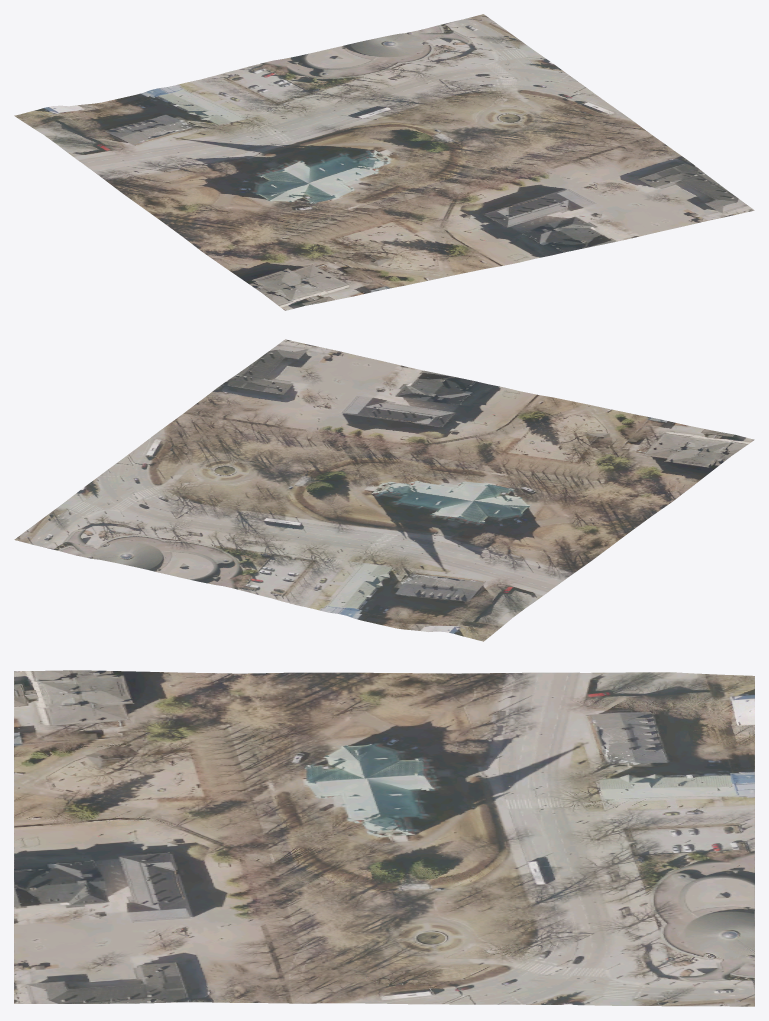
File: CM_Terrain_24486568_6820818.fbx
The picture shows the model from 3 angles, top to bottom: view 1: azimuth 30°, elevation 25°; view 2: azimuth 150°, elevation 25°; view 3: azimuth 270°, elevation 25°; orthographic projection. The views are drawn at different scales.
Parts seen in each view (by area): view 1: CM_Terrain_24486568_6820818_LOD0; view 2: CM_Terrain_24486568_6820818_LOD0; view 3: CM_Terrain_24486568_6820818_LOD0.
Part boxes in pixels (<box>): CM_Terrain_24486568_6820818_LOD0: <box>14,14,754,310</box>; CM_Terrain_24486568_6820818_LOD0: <box>14,339,754,641</box>; CM_Terrain_24486568_6820818_LOD0: <box>14,670,754,1006</box>.
Size of what is drawn, in the model's own units: 205 by 7.42 by 205.
